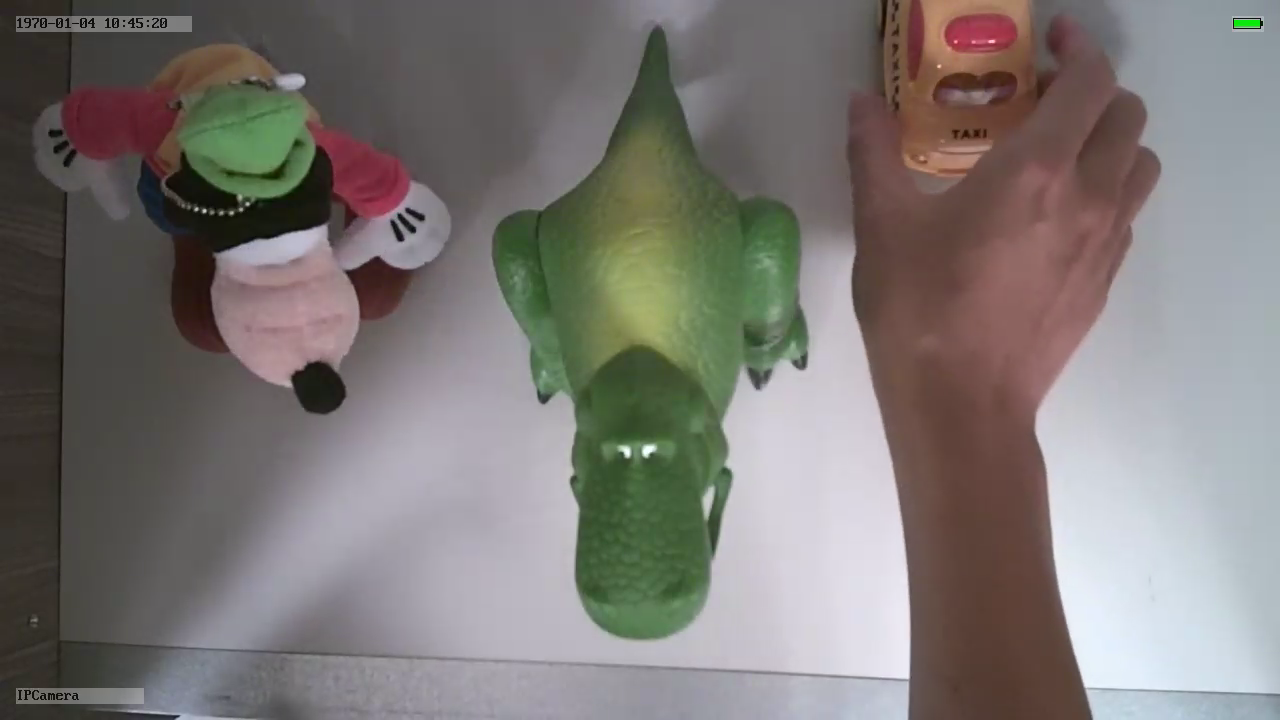goofy: (34, 38, 456, 412)
